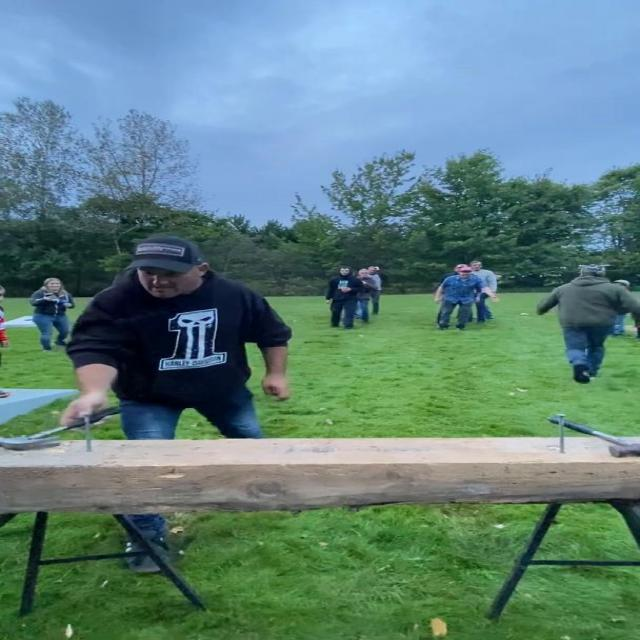hammer: (0, 404, 134, 452), (544, 413, 640, 457)
